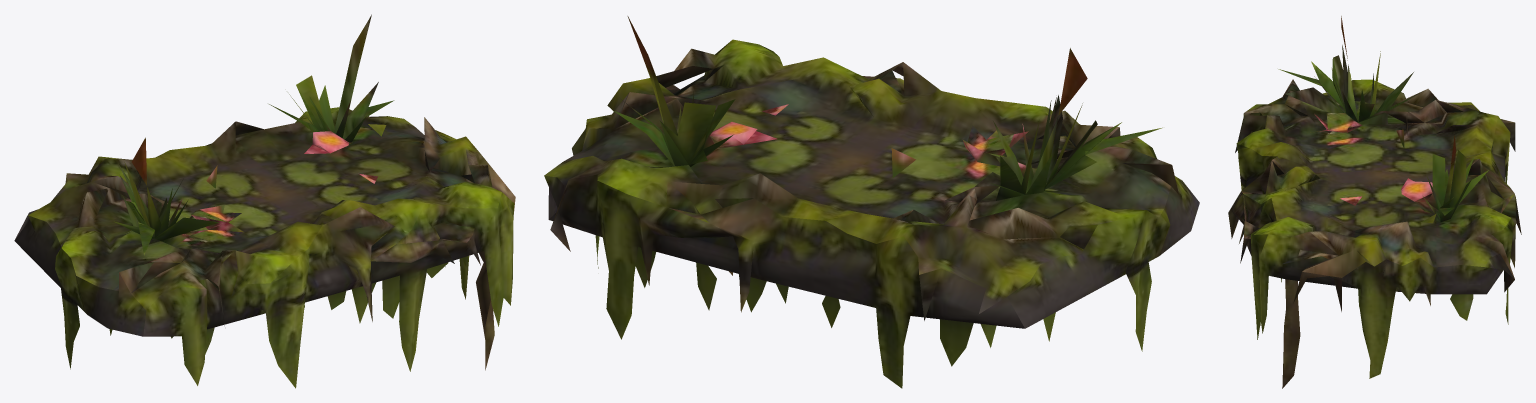
The model's file is d_marais_cime.glb.
The picture shows the model from 3 angles, left to right: view 1: azimuth 30°, elevation 25°; view 2: azimuth 150°, elevation 25°; view 3: azimuth 270°, elevation 25°; orthographic projection. The views are drawn at different scales.
Parts seen in each view (by area): view 1: geometry_0; view 2: geometry_0; view 3: geometry_0.
Boxes of the visible parts, <box> form: geometry_0: <box>14,14,515,388</box>; geometry_0: <box>544,16,1199,388</box>; geometry_0: <box>1228,16,1521,388</box>.
Bounding box in the file's own units: 0.9777 × 0.6284 × 0.6711.
1 material, 1 textured.
